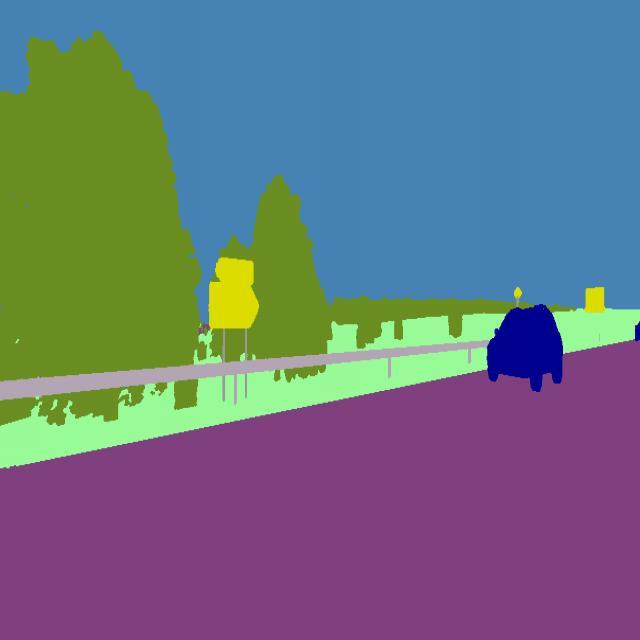safe: (484, 302, 566, 396)
